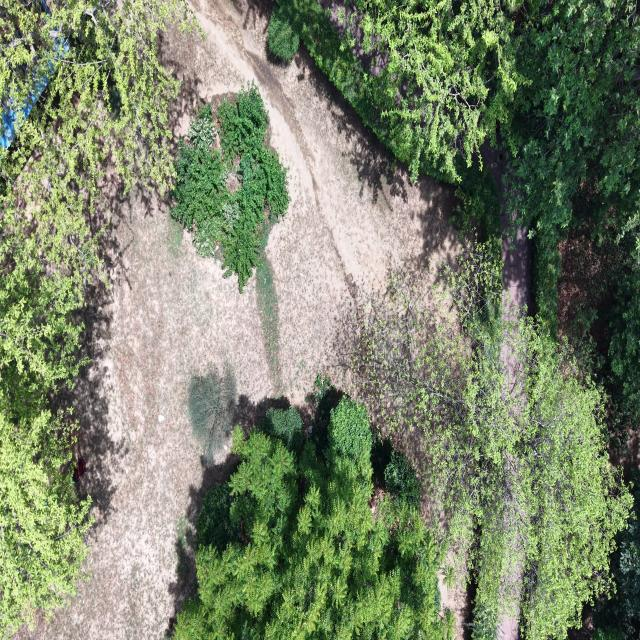DRY_AREA: (20, 0, 456, 639), (166, 4, 455, 397), (481, 136, 532, 407), (481, 134, 532, 322), (481, 135, 532, 322), (481, 134, 532, 317), (482, 137, 532, 322), (483, 144, 532, 322), (482, 143, 532, 317), (557, 228, 623, 345), (558, 229, 620, 344), (318, 0, 388, 75), (501, 204, 531, 321), (501, 208, 532, 316)
VEGETATION_TREE: (176, 0, 639, 639), (279, 0, 639, 459), (0, 0, 192, 635), (280, 0, 639, 334), (352, 246, 631, 638), (175, 387, 450, 639), (179, 381, 419, 637), (509, 2, 639, 451), (278, 0, 523, 237), (501, 0, 639, 330), (279, 0, 521, 181), (0, 0, 192, 226), (0, 210, 96, 636), (339, 0, 524, 181), (559, 229, 639, 639), (172, 83, 289, 292), (0, 388, 92, 637), (559, 228, 639, 444), (172, 105, 226, 255), (594, 518, 639, 639), (608, 259, 639, 418), (188, 367, 236, 464), (256, 221, 282, 389), (452, 164, 501, 241), (371, 433, 421, 507), (196, 483, 239, 552), (384, 451, 420, 506), (261, 408, 304, 453), (268, 10, 299, 62), (594, 628, 624, 639)
